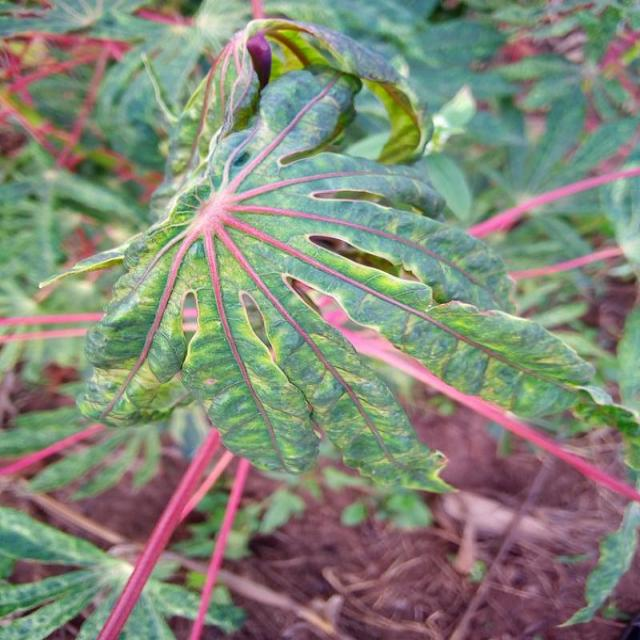Mosaico: (118, 120, 581, 476)
